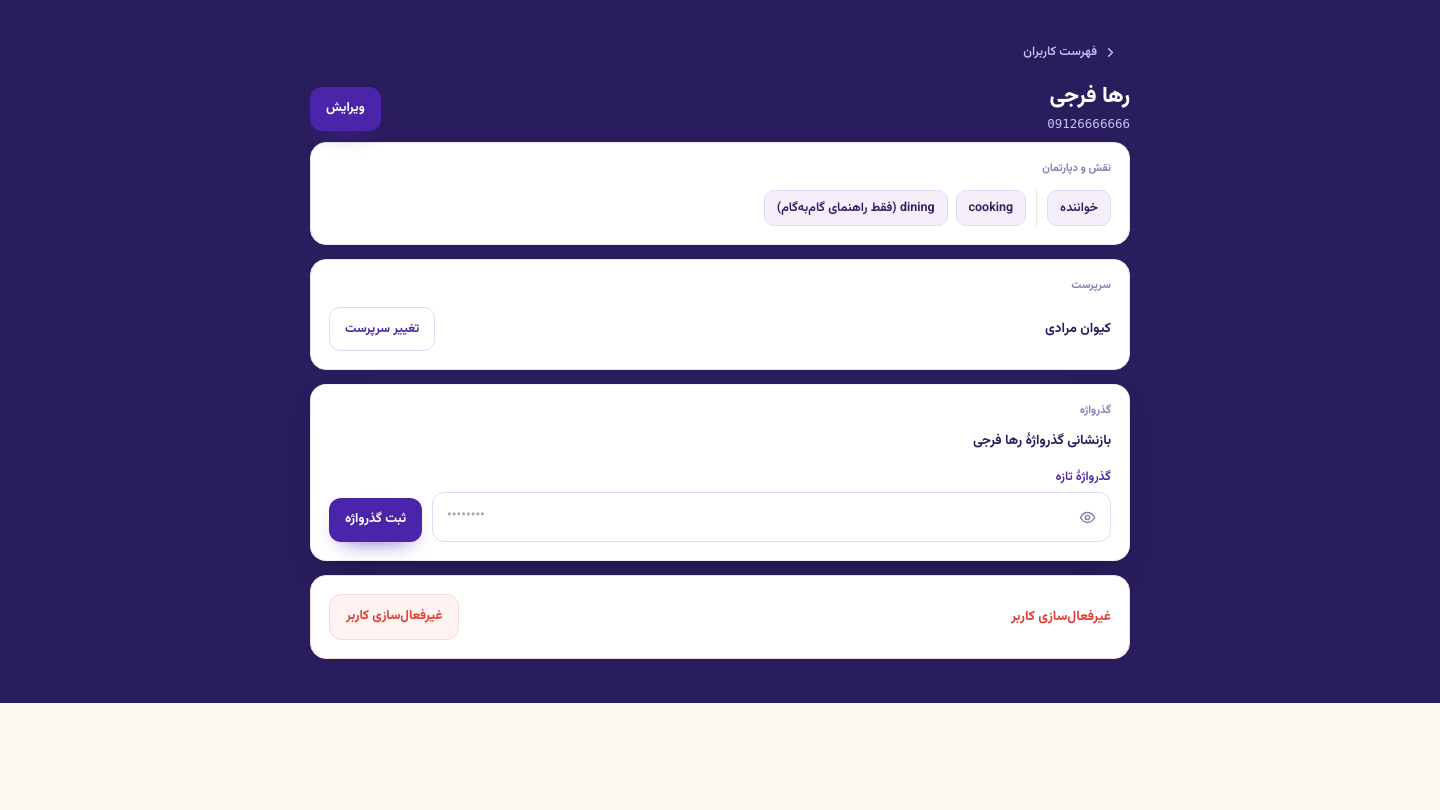
Test: when one of the dialog's own reads fails › says the department registry did not load, instead of drawing two grants as none
The image size is (1440, 810).
Click the button "ویرایش" at (345, 109), box [310,87,381,131]
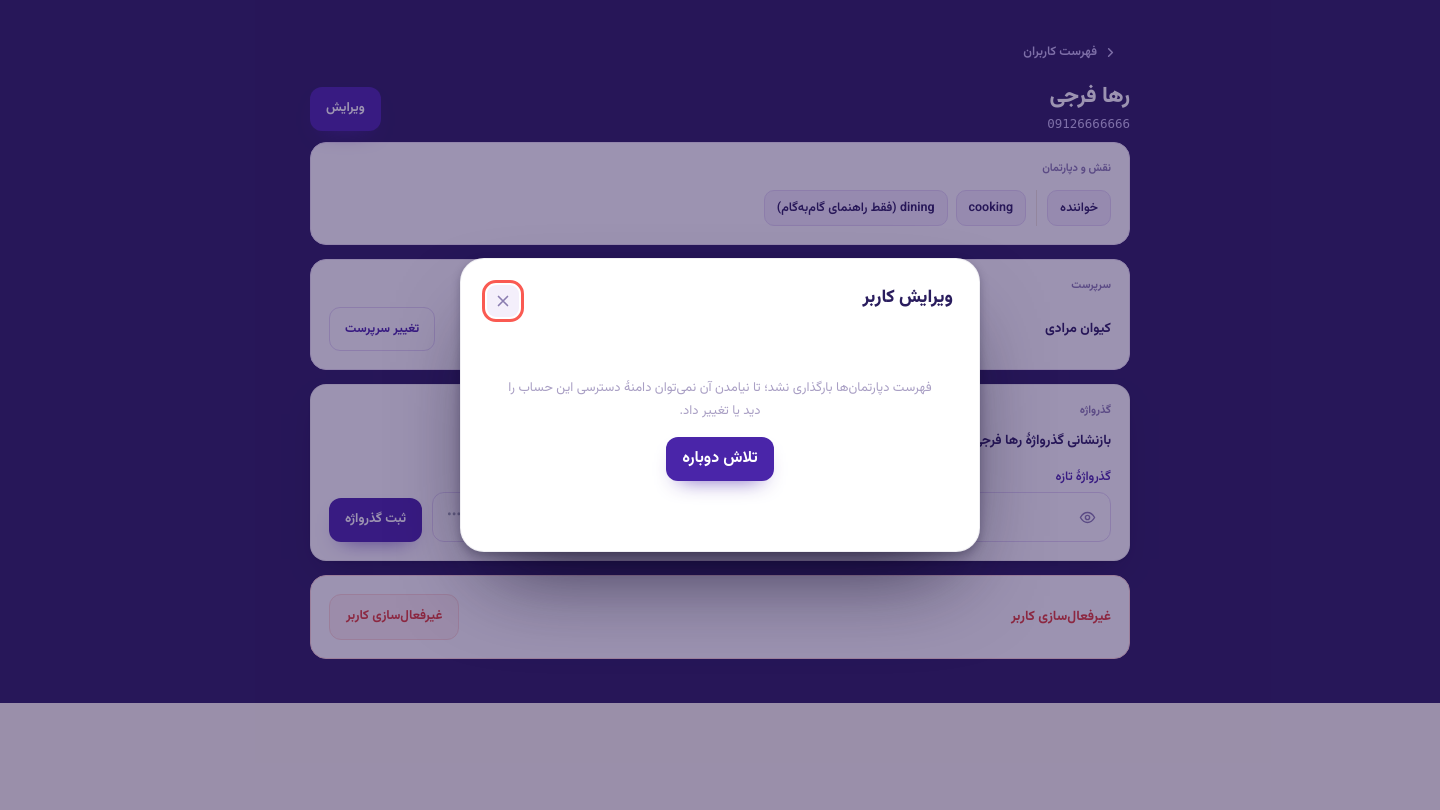
Now the dialog is shown, box [460,258,980,552]
Now the text "فهرست دپارتمان‌ها بارگذاری نشد؛ تا نیامدن آن نمی‌توان دامنهٔ دسترسی این حساب را دید یا تغییر داد." is shown, box [508,378,932,421]
